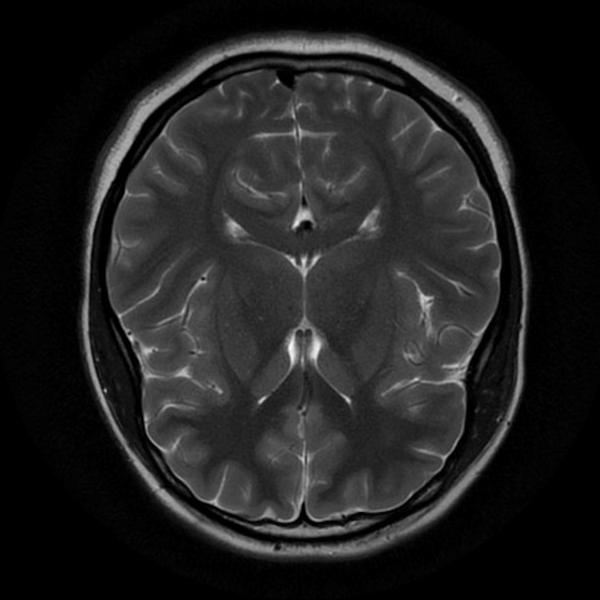Normal_Brain: (2, 1, 600, 600)
